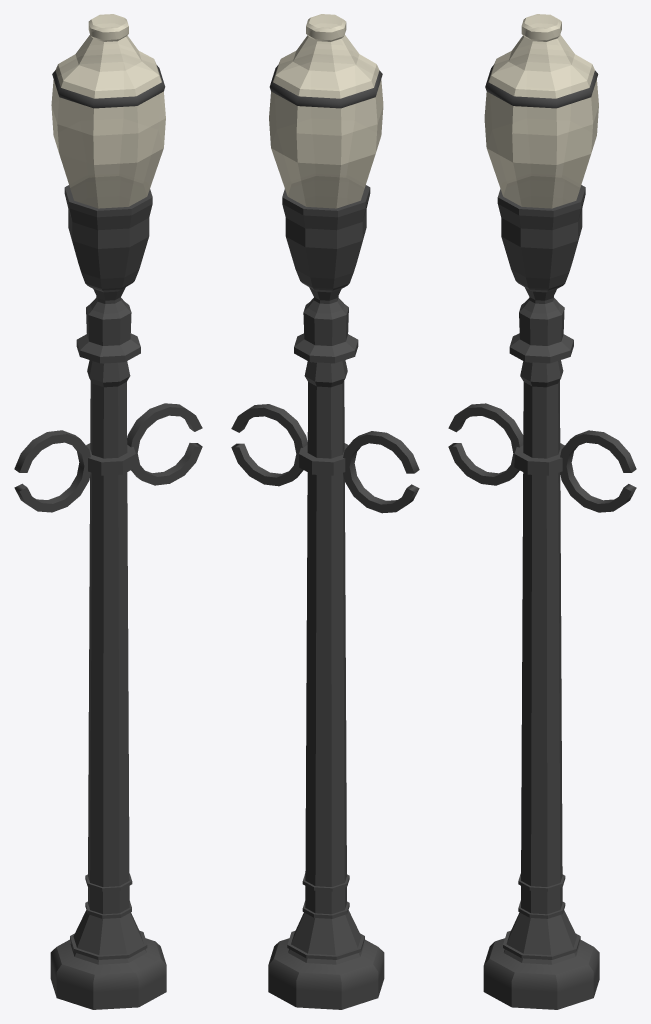
Rendered from streetlamp_plaza.fbx.
3 renders of one model, left to right at view 1: azimuth 30°, elevation 25°; view 2: azimuth 150°, elevation 25°; view 3: azimuth 330°, elevation 25°, orthographic.
Visible parts, largest first — view 1: streetlamp_fancy, pCube996, pCube995; view 2: streetlamp_fancy, pCube996, pCube995; view 3: streetlamp_fancy, pCube995, pCube996.
Part boxes in pixels (bbox=[...]): streetlamp_fancy: bbox=[50, 14, 166, 1009]; pCube996: bbox=[14, 430, 90, 512]; pCube995: bbox=[127, 403, 202, 485]; streetlamp_fancy: bbox=[268, 14, 384, 1009]; pCube996: bbox=[343, 431, 419, 513]; pCube995: bbox=[231, 404, 307, 486]; streetlamp_fancy: bbox=[483, 14, 599, 1009]; pCube995: bbox=[560, 430, 636, 512]; pCube996: bbox=[448, 403, 523, 485].
Bounding box in the file's own units: 0.6777 × 3.41 × 0.3847.
